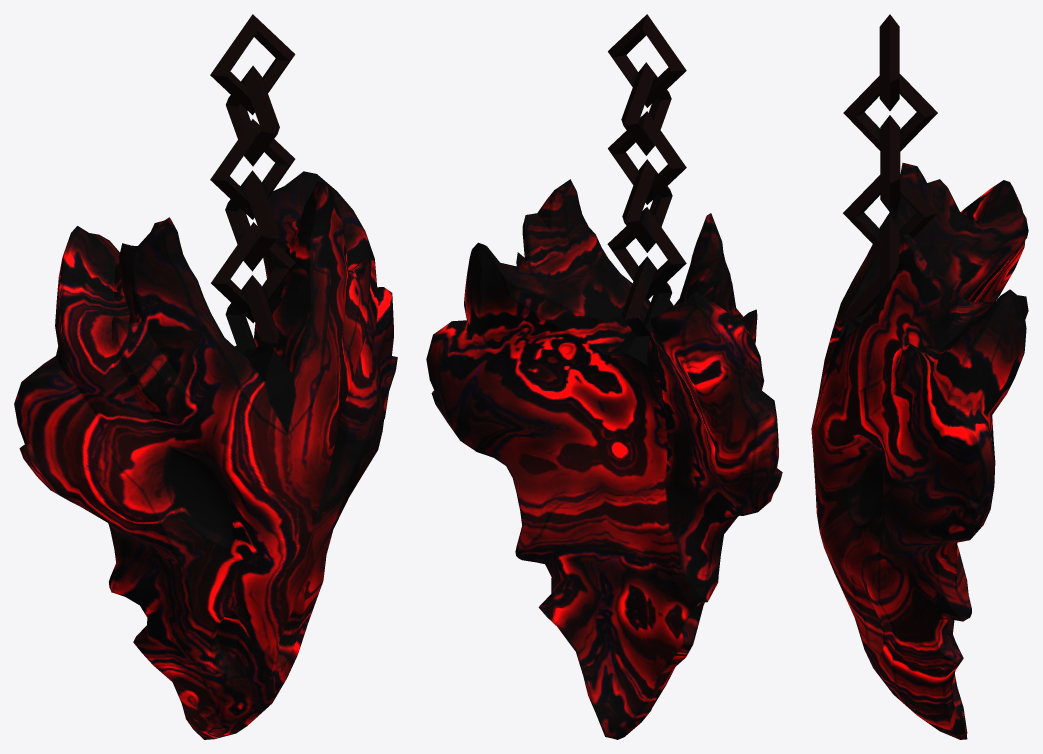
Rendered from Ludivour 2.fbx.
The picture shows the model from 3 angles, left to right: view 1: azimuth 30°, elevation 25°; view 2: azimuth 150°, elevation 25°; view 3: azimuth 270°, elevation 25°; orthographic projection. The views are drawn at different scales.
Parts seen in each view (by area): view 1: Ludivour 2; view 2: Ludivour 2; view 3: Ludivour 2.
Part boxes in pixels (left/top/right/bottom): Ludivour 2: left=14, top=14, right=397, bottom=739; Ludivour 2: left=426, top=14, right=782, bottom=739; Ludivour 2: left=811, top=14, right=1028, bottom=739.
Bounding box in the file's own units: 5.25 × 2.72 × 9.98.
1 material, 1 textured.
